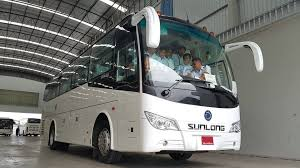bus: (40, 11, 242, 164)
